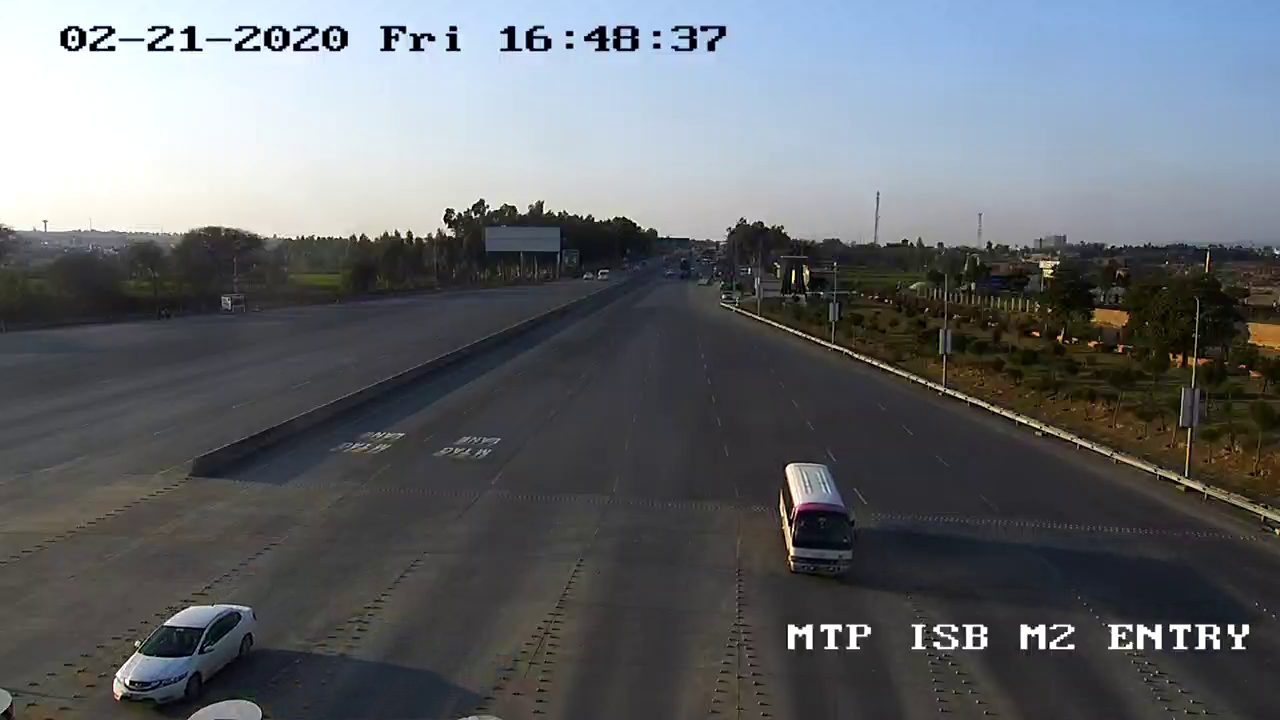f1: (108, 595, 265, 706)
f3: (766, 455, 863, 591)
